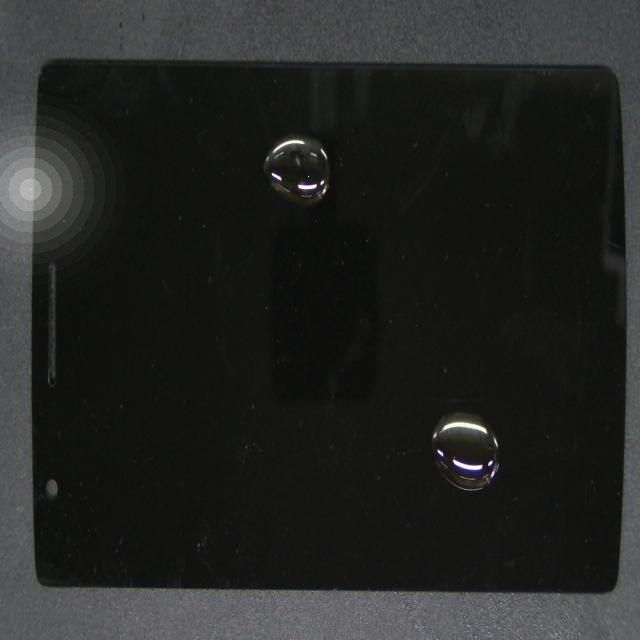oil: (240, 195, 640, 618), (145, 57, 404, 224)
